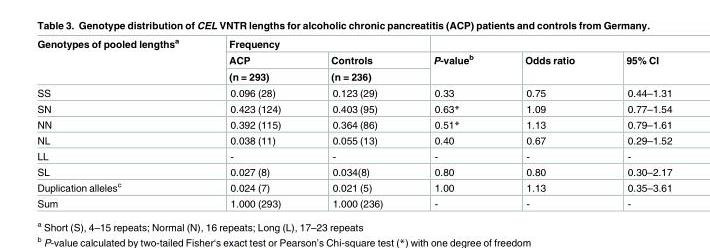table: (36, 37, 671, 208)
table column: (36, 37, 203, 208), (203, 37, 305, 208), (305, 37, 407, 208), (498, 37, 599, 208), (407, 37, 498, 208), (599, 37, 671, 208)
table column header: (36, 37, 671, 85)
table row: (36, 51, 671, 68), (36, 68, 671, 85), (36, 100, 671, 116), (36, 116, 671, 132), (36, 132, 671, 148), (36, 148, 671, 164), (36, 179, 671, 195), (36, 85, 671, 100), (36, 164, 671, 179), (36, 37, 671, 51), (36, 195, 671, 208)
table spanning cell: (36, 37, 203, 85), (498, 37, 599, 85), (407, 37, 498, 85), (203, 51, 305, 85), (305, 51, 407, 85), (599, 37, 671, 85), (203, 37, 407, 51)
